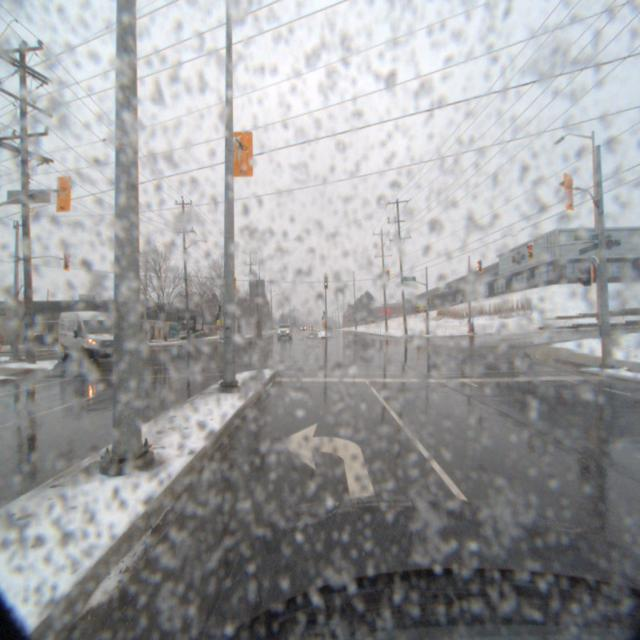Car: (60, 309, 132, 369)
